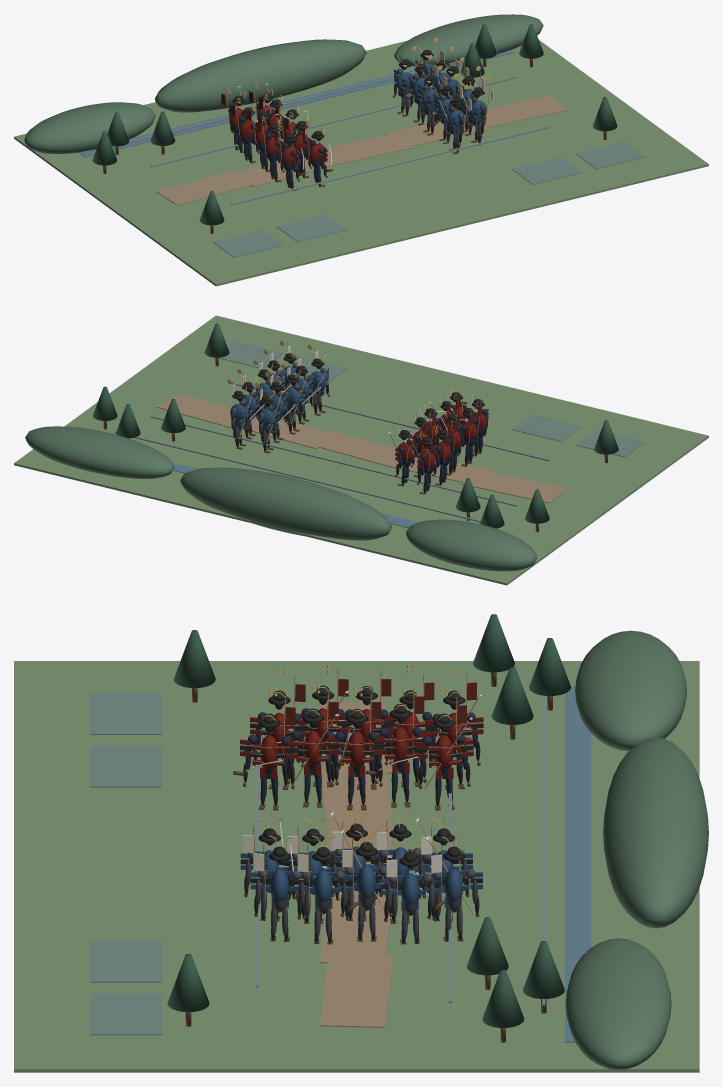
Rendered from samurai_battlefield_pack.glb.
The picture shows the model from 3 angles, top to bottom: view 1: azimuth 30°, elevation 25°; view 2: azimuth 150°, elevation 25°; view 3: azimuth 270°, elevation 25°; orthographic projection. The views are drawn at different scales.
Visible parts, largest first — view 1: shinano countryside battlefield ground, distant center mountain ridge, distant left cedar hill, distant right cedar hill, narrow blue river channel, worn dirt road segment, worn dirt road segment.002, worn dirt road segment.004, flooded rice paddy 4, flooded rice paddy 2, flooded rice paddy 1, flooded rice paddy 3 (+13 smaller); view 2: shinano countryside battlefield ground, distant center mountain ridge, distant right cedar hill, distant left cedar hill, worn dirt road segment, worn dirt road segment.002, worn dirt road segment.004, flooded rice paddy 2, worn dirt road segment.003, low dawn mist band.002, flooded rice paddy 4, low dawn mist band.001 (+12 smaller); view 3: shinano countryside battlefield ground, distant center mountain ridge, distant right cedar hill, distant left cedar hill, narrow blue river channel, worn dirt road segment.004, worn dirt road segment.001, worn dirt road segment.003, flooded rice paddy 3, flooded rice paddy 4, flooded rice paddy 1, flooded rice paddy 2 (+11 smaller).
Boxes of the visible parts, x1,y1,x2,y2 form: shinano countryside battlefield ground: (14, 40, 708, 286); distant center mountain ridge: (154, 39, 366, 112); distant left cedar hill: (24, 102, 155, 153); distant right cedar hill: (394, 14, 543, 66); narrow blue river channel: (78, 50, 514, 157); worn dirt road segment: (157, 169, 260, 205); worn dirt road segment.002: (324, 133, 414, 166); worn dirt road segment.004: (464, 95, 566, 127); flooded rice paddy 4: (575, 141, 645, 169); flooded rice paddy 2: (276, 214, 346, 242); flooded rice paddy 1: (213, 230, 283, 257); flooded rice paddy 3: (512, 157, 582, 184); shinano countryside battlefield ground: (14, 315, 708, 585); distant center mountain ridge: (180, 467, 391, 540); distant right cedar hill: (25, 426, 174, 478); distant left cedar hill: (406, 519, 536, 571); worn dirt road segment: (461, 471, 566, 503); worn dirt road segment.002: (316, 430, 398, 467); worn dirt road segment.004: (156, 393, 231, 428); flooded rice paddy 2: (512, 414, 582, 441); worn dirt road segment.003: (243, 415, 336, 448); low dawn mist band.002: (115, 432, 480, 522); flooded rice paddy 4: (219, 341, 283, 367); low dawn mist band.001: (150, 415, 517, 506); shinano countryside battlefield ground: (14, 661, 699, 1072); distant center mountain ridge: (603, 737, 708, 928); distant right cedar hill: (565, 938, 671, 1070); distant left cedar hill: (575, 630, 686, 751); narrow blue river channel: (565, 686, 591, 1042); worn dirt road segment.004: (319, 954, 393, 1027); worn dirt road segment.001: (321, 764, 392, 836); worn dirt road segment.003: (319, 891, 390, 963); flooded rice paddy 3: (90, 940, 161, 982); flooded rice paddy 4: (90, 993, 161, 1035); flooded rice paddy 1: (90, 693, 161, 734); flooded rice paddy 2: (90, 746, 161, 787).
Bounding box in the file's own units: 16.1 × 2.32 × 11.15.
